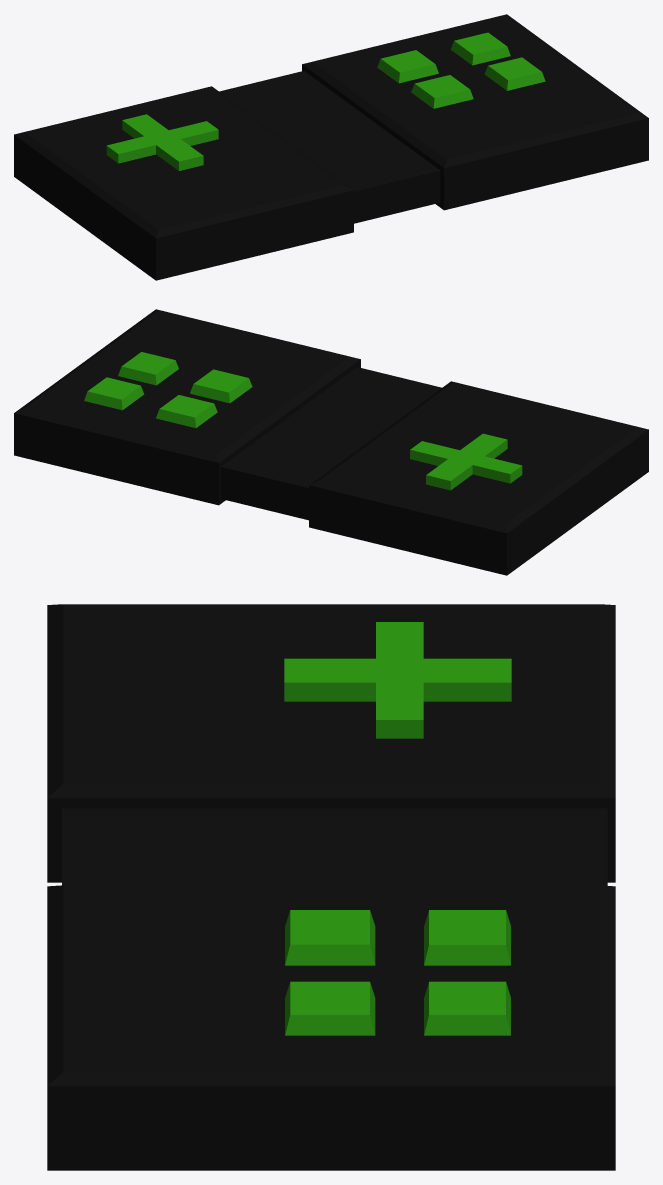
The model's file is House_Anywhere_Console_controller.FBX.
3 views of the same model, one above another, from view 1: azimuth 30°, elevation 25°; view 2: azimuth 150°, elevation 25°; view 3: azimuth 270°, elevation 25° (orthographic). The views are drawn at different scales.
Parts seen in each view (by area): view 1: House_Anywhere_Console_controller; view 2: House_Anywhere_Console_controller; view 3: House_Anywhere_Console_controller.
Boxes of the visible parts, left/top/right/bottom form: House_Anywhere_Console_controller: left=14, top=14, right=648, bottom=280; House_Anywhere_Console_controller: left=14, top=309, right=648, bottom=575; House_Anywhere_Console_controller: left=47, top=604, right=615, bottom=1170.
Size of the model in its own units: 24.83 by 2.67 by 12.39.
